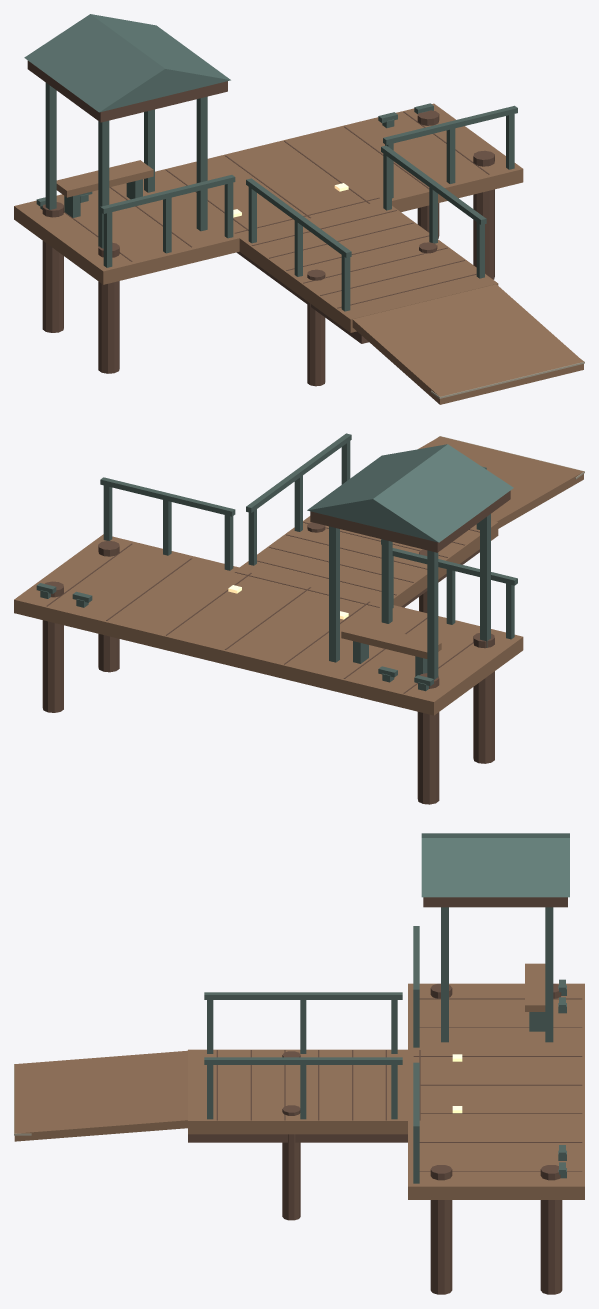
Rendered from pier_lod.glb.
3 renders of one model, top to bottom at view 1: azimuth 30°, elevation 25°; view 2: azimuth 150°, elevation 25°; view 3: azimuth 270°, elevation 25°, orthographic.
Visible parts, largest first — view 1: pier_Boarding_Head, pier_Quay_Ramp, pier_Deck_Stem, pier_Gable_Roof, pier_Timber_Pile.001, pier_Shelter_Fascia, pier_Timber_Pile, pier_Shelter_Bench, pier_Stem_Pile, pier_Timber_Pile.003, pier_Shelter_Post.003, pier_Shelter_Post (+13 smaller); view 2: pier_Boarding_Head, pier_Gable_Roof, pier_Deck_Stem, pier_Quay_Ramp, pier_Timber_Pile, pier_Timber_Pile.002, pier_Shelter_Fascia, pier_Timber_Pile.001, pier_Shelter_Bench, pier_Shelter_Post, pier_Shelter_Post.002, pier_Shelter_Post.001 (+12 smaller); view 3: pier_Boarding_Head, pier_Deck_Stem, pier_Quay_Ramp, pier_Gable_Roof, pier_Timber_Pile.003, pier_Timber_Pile.002, pier_Deck_Stringer.001, pier_Stem_Pile.001, pier_Shelter_Fascia, pier_Stem_Handrail, pier_Stem_Handrail.001, pier_Shelter_Post.002 (+2 smaller).
Boxes of the visible parts, <box> form: pier_Boarding_Head: <box>14,103,523,284</box>; pier_Quay_Ramp: <box>352,284,583,404</box>; pier_Deck_Stem: <box>239,189,498,332</box>; pier_Gable_Roof: <box>24,14,230,112</box>; pier_Timber_Pile.001: <box>98,242,119,373</box>; pier_Shelter_Fascia: <box>27,60,227,122</box>; pier_Timber_Pile: <box>42,202,63,332</box>; pier_Shelter_Bench: <box>56,160,153,197</box>; pier_Stem_Pile: <box>307,269,325,386</box>; pier_Timber_Pile.003: <box>473,150,494,279</box>; pier_Shelter_Post.003: <box>196,96,207,231</box>; pier_Shelter_Post: <box>45,82,56,209</box>; pier_Boarding_Head: <box>14,534,523,715</box>; pier_Gable_Roof: <box>307,444,513,542</box>; pier_Deck_Stem: <box>240,516,498,606</box>; pier_Quay_Ramp: <box>418,436,583,528</box>; pier_Timber_Pile: <box>417,673,439,804</box>; pier_Timber_Pile.002: <box>42,581,63,712</box>; pier_Shelter_Fascia: <box>310,490,510,552</box>; pier_Timber_Pile.001: <box>473,633,494,763</box>; pier_Shelter_Bench: <box>341,622,441,658</box>; pier_Shelter_Post: <box>427,550,438,679</box>; pier_Shelter_Post.002: <box>329,526,339,662</box>; pier_Shelter_Post.001: <box>480,514,490,647</box>; pier_Boarding_Head: <box>408,983,584,1199</box>; pier_Deck_Stem: <box>188,1049,444,1134</box>; pier_Quay_Ramp: <box>14,1050,187,1141</box>; pier_Gable_Roof: <box>421,833,569,897</box>; pier_Timber_Pile.003: <box>430,1165,452,1294</box>; pier_Timber_Pile.002: <box>540,1165,562,1294</box>; pier_Deck_Stringer.001: <box>188,1134,407,1142</box>; pier_Stem_Pile.001: <box>282,1105,300,1220</box>; pier_Shelter_Fascia: <box>423,897,567,907</box>; pier_Stem_Handrail: <box>204,992,402,999</box>; pier_Stem_Handrail.001: <box>204,1057,402,1064</box>; pier_Shelter_Post.002: <box>545,907,553,1042</box>.
Bounding box in the file's own units: 6.54 × 4.41 × 7.77.
